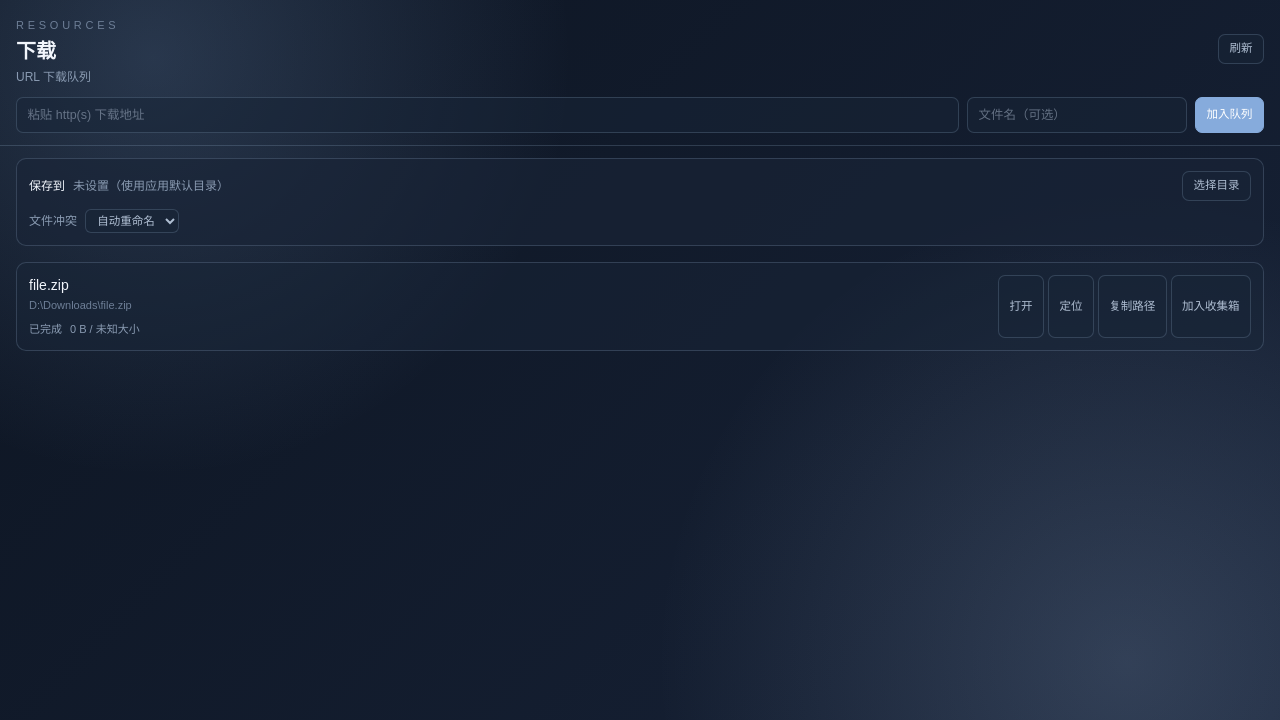
Test case: DownloadsPanel › keeps a native clipboard error visible without changing the queue
The image size is (1280, 720).
expect the text "已完成" is shown: met, box [29, 322, 62, 338]
Click the button "复制路径".
click(1132, 306)  # box [1098, 275, 1167, 338]
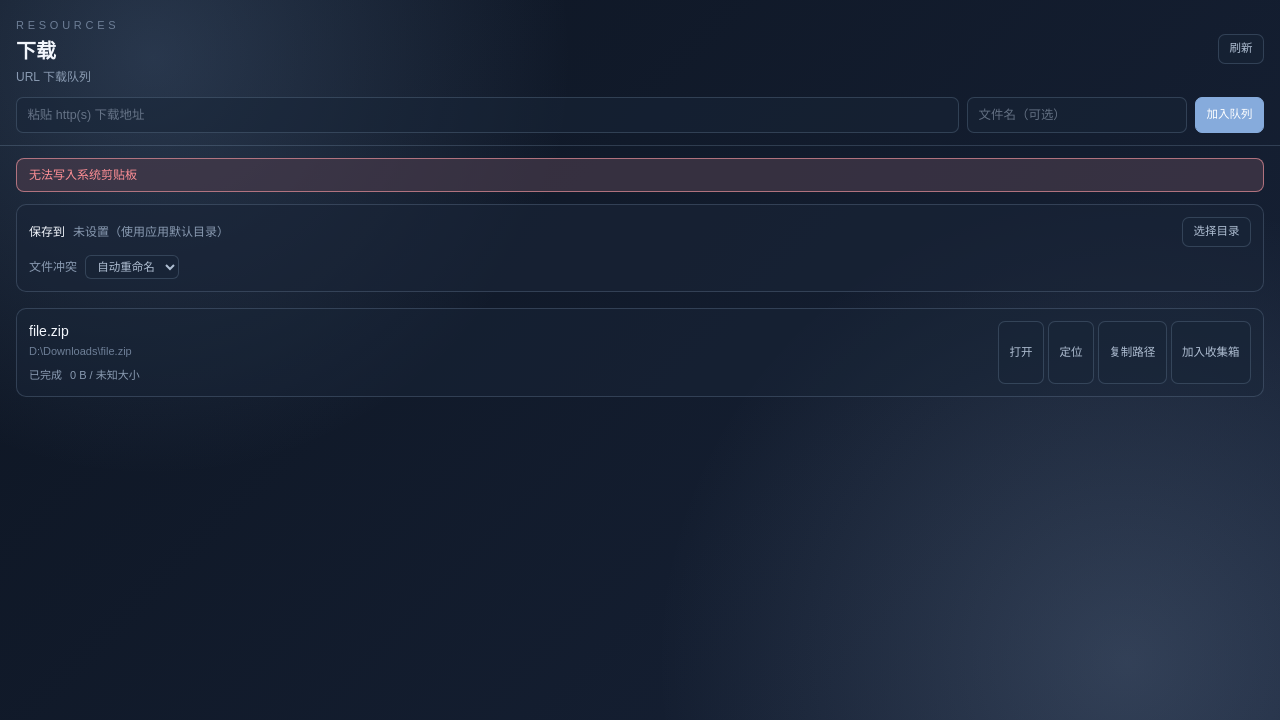
expect the text "已完成" is shown: met, box [29, 368, 62, 384]
expect the message reads "无法写入系统剪贴板": met, box [29, 168, 137, 182]
